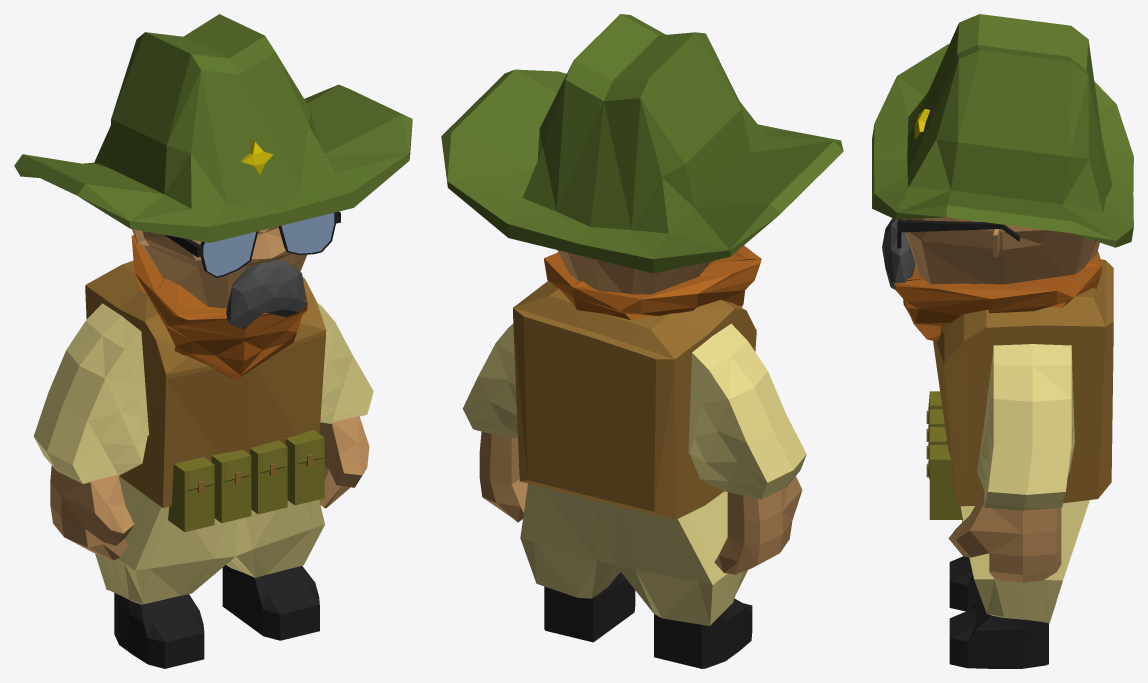
The model's file is player.dae.
3 renders of one model, left to right at view 1: azimuth 30°, elevation 25°; view 2: azimuth 150°, elevation 25°; view 3: azimuth 270°, elevation 25°, orthographic.
Parts seen in each view (by area): view 1: Cube_000; view 2: Cube_000; view 3: Cube_000.
Boxes of the visible parts, box(x1,y1,x2,y2) form: Cube_000: box(14, 14, 412, 668); Cube_000: box(441, 14, 843, 668); Cube_000: box(872, 14, 1133, 668).
Bounding box in the file's own units: 0.5165 × 0.3489 × 0.8742.
